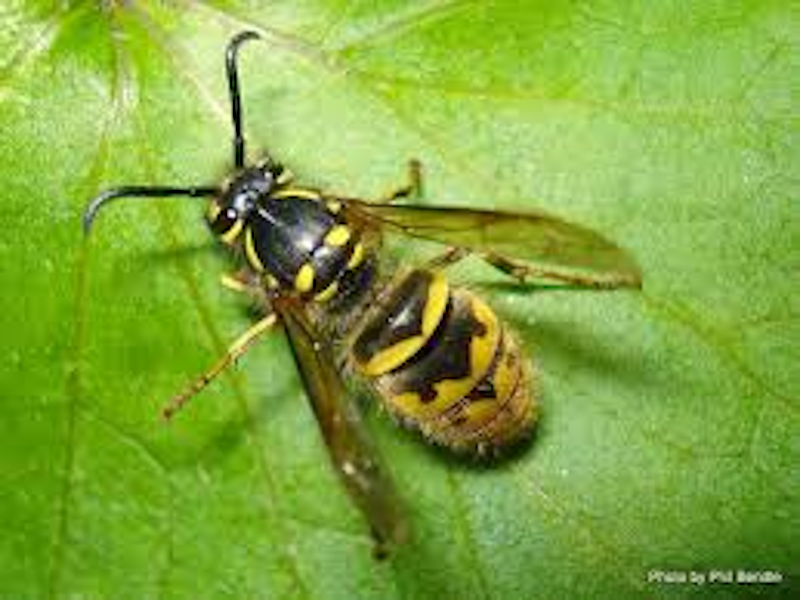chax: (75, 6, 655, 539)
